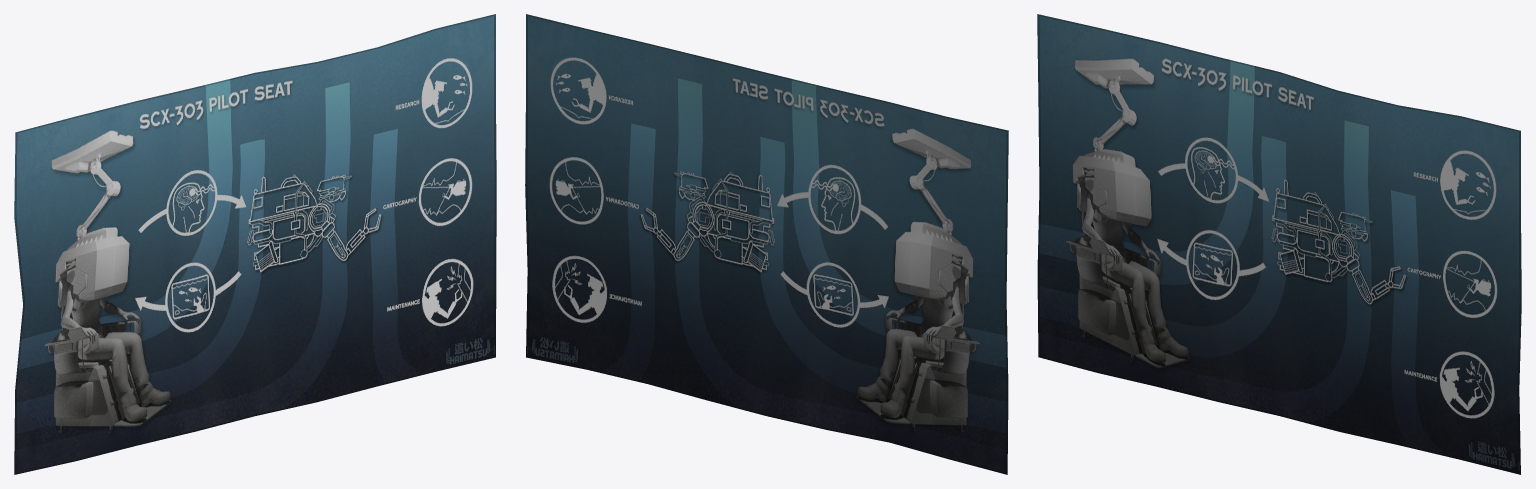
Rendered from poster_pilot_seat.dae.
3 renders of one model, left to right at view 1: azimuth 30°, elevation 25°; view 2: azimuth 150°, elevation 25°; view 3: azimuth 330°, elevation 25°, orthographic.
Parts seen in each view (by area): view 1: poster_motivational; view 2: poster_motivational; view 3: poster_motivational.
Part boxes in pixels (x1,y1,x2,y2): poster_motivational: (14, 14, 496, 474); poster_motivational: (525, 14, 1008, 474); poster_motivational: (1037, 14, 1521, 474).
Bounding box in the file's own units: 123 × 83.73 × 2.03.
